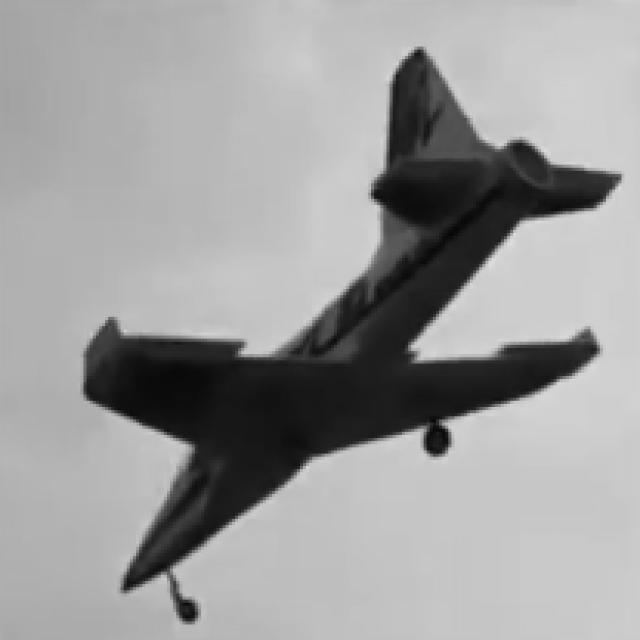iha: (23, 13, 618, 618)
